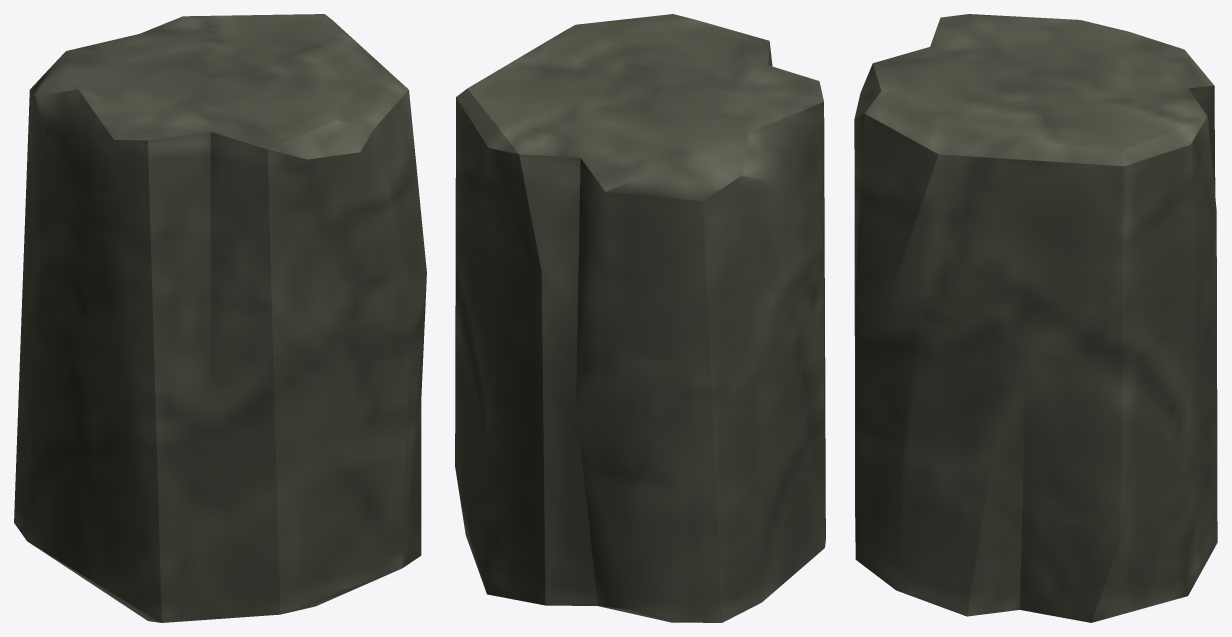
Rendered from Rock_09.fbx.
3 renders of one model, left to right at view 1: azimuth 30°, elevation 25°; view 2: azimuth 150°, elevation 25°; view 3: azimuth 270°, elevation 25°, orthographic. The views are drawn at different scales.
Visible parts, largest first — view 1: Rock_09; view 2: Rock_09; view 3: Rock_09.
Boxes of the visible parts, left/top/right/bottom form: Rock_09: left=14, top=14, right=426, bottom=622; Rock_09: left=455, top=14, right=825, bottom=622; Rock_09: left=854, top=14, right=1217, bottom=622.
Size of the model in its own units: 192 by 285 by 195.
1 material, 1 textured.
